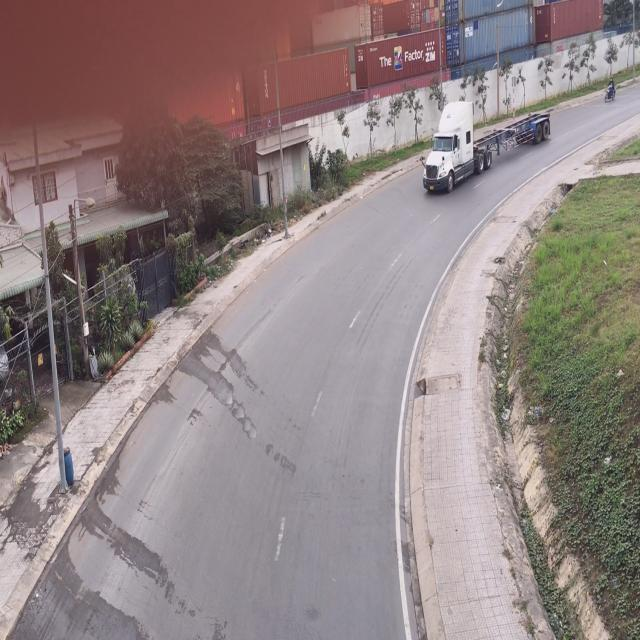motorbike: (604, 76, 617, 103)
truck: (423, 101, 555, 196)
